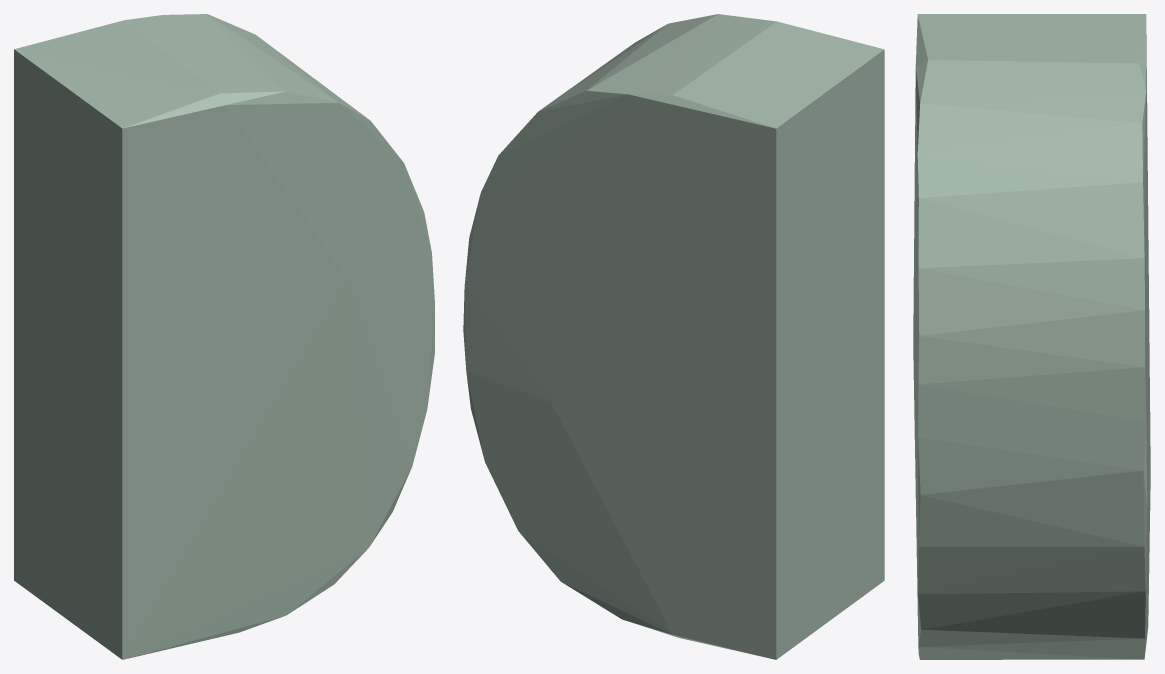
File: name-text-d-collider.glb
The picture shows the model from 3 angles, left to right: view 1: azimuth 30°, elevation 25°; view 2: azimuth 150°, elevation 25°; view 3: azimuth 270°, elevation 25°; orthographic projection. The views are drawn at different scales.
Parts seen in each view (by area): view 1: world; view 2: world; view 3: world.
Part boxes in pixels (<box>): world: <box>14,14,434,659</box>; world: <box>463,14,884,659</box>; world: <box>913,14,1150,659</box>.
Bounding box in the file's own units: 0.6612 × 1.09 × 0.4103.
